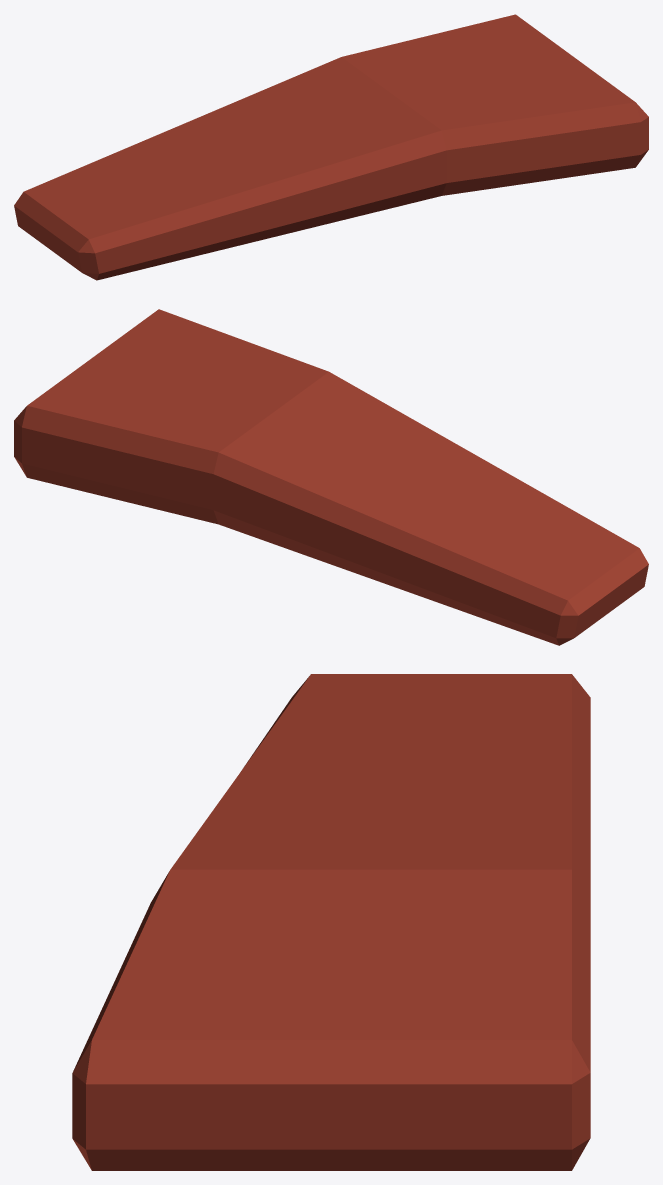
The model's file is Personal_Vehicle_03_Wings_Right_Red.fbx.
The picture shows the model from 3 angles, top to bottom: view 1: azimuth 30°, elevation 25°; view 2: azimuth 150°, elevation 25°; view 3: azimuth 270°, elevation 25°; orthographic projection. The views are drawn at different scales.
Visible parts, largest first — view 1: Personal_Vehicle_03_Wings_Right_Red; view 2: Personal_Vehicle_03_Wings_Right_Red; view 3: Personal_Vehicle_03_Wings_Right_Red.
Part boxes in pixels (left/top/right/bottom): Personal_Vehicle_03_Wings_Right_Red: left=14, top=14, right=648, bottom=280; Personal_Vehicle_03_Wings_Right_Red: left=14, top=309, right=648, bottom=645; Personal_Vehicle_03_Wings_Right_Red: left=72, top=674, right=590, bottom=1170.
Bounding box in the file's own units: 76.65 × 14.31 × 33.49.
Materials: 1 (1 with a texture image).
